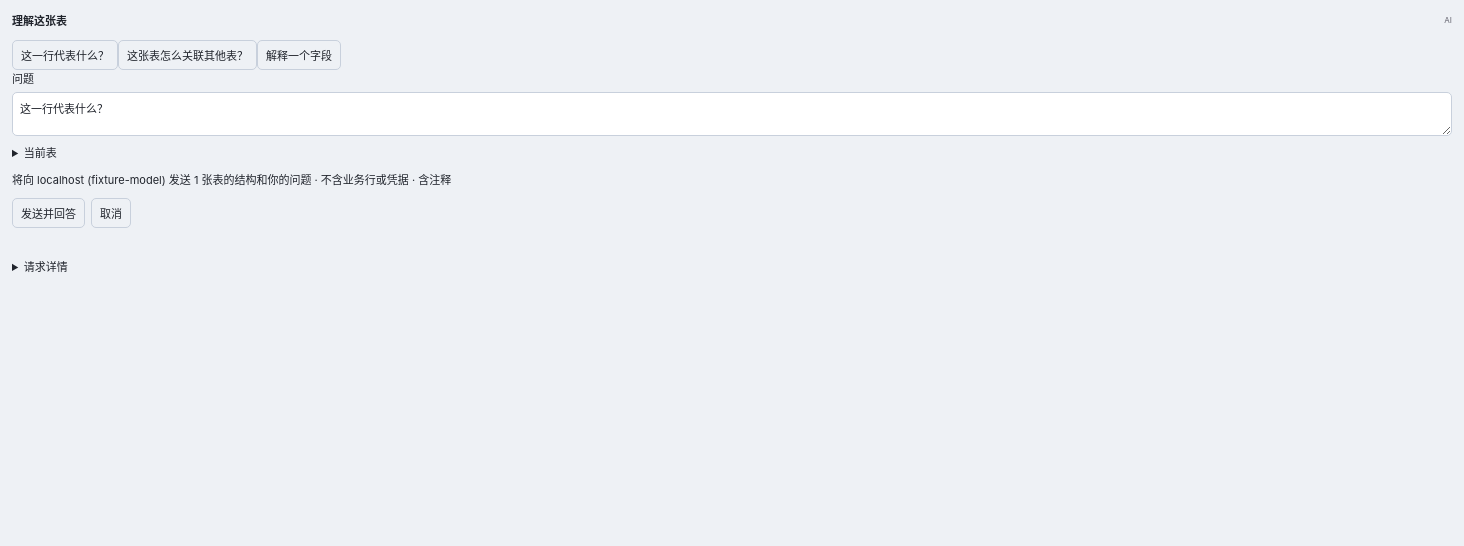
Test case: task-first table understanding › provides one whole-answer draft action and uses the app language
What coordinates should you click on to do the following:
click the button "发送并回答"
I would click on:
 (48, 213)
Its box is [12,198,85,228].
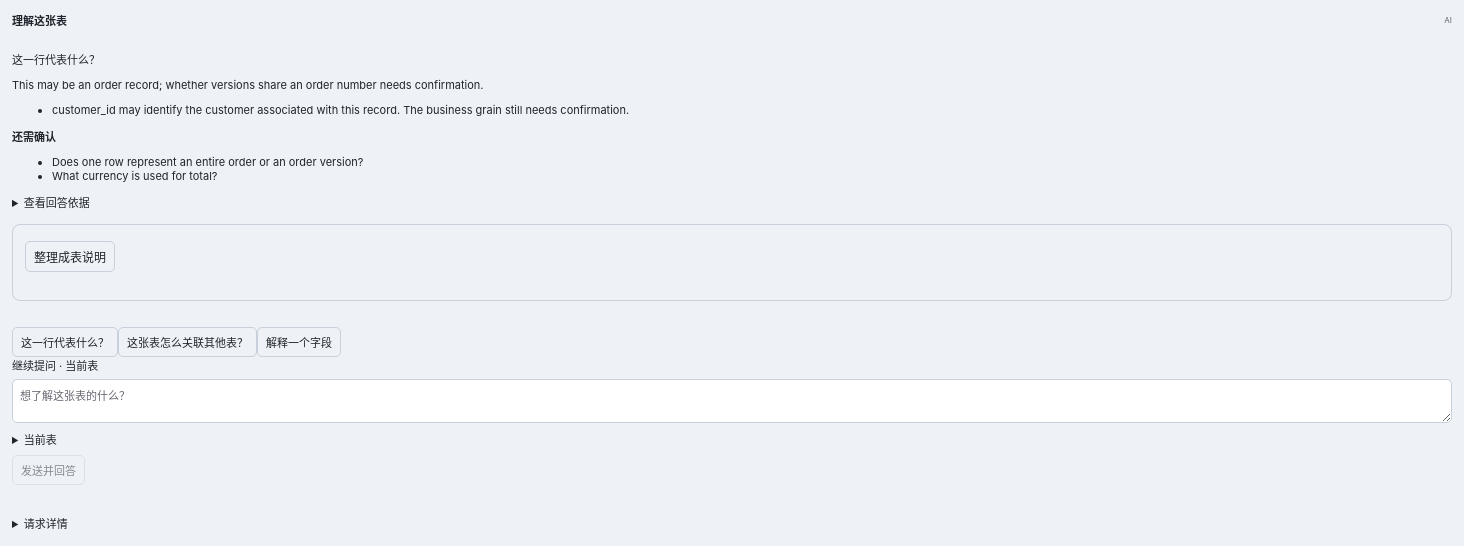
Expected: the number of buttons "整理成表说明" is 1, [25,241,115,272]
Now the text "This may be an order record; whether versions share an order number needs confirmation." is shown, box [12,78,484,92]
Now the heading "查看回答依据" is shown, box [24,196,90,210]
